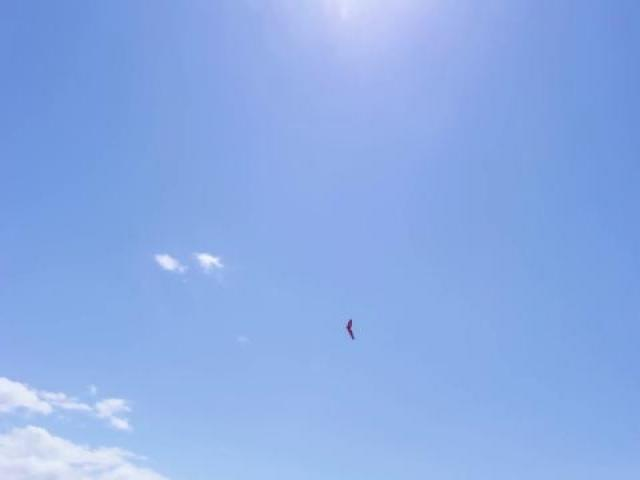flying wing: (344, 318, 357, 342)
